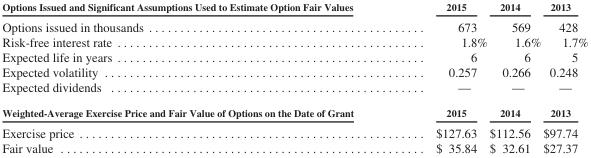table: (1, 1, 587, 154)
table column: (1, 1, 394, 154), (394, 1, 487, 154), (487, 1, 541, 154), (541, 1, 587, 154)
table column header: (1, 1, 587, 15)
table row: (1, 100, 587, 122), (1, 79, 587, 100), (1, 15, 587, 33), (1, 122, 587, 139), (1, 33, 587, 49), (1, 49, 587, 64), (1, 64, 587, 79), (1, 139, 587, 154), (1, 1, 587, 15)
